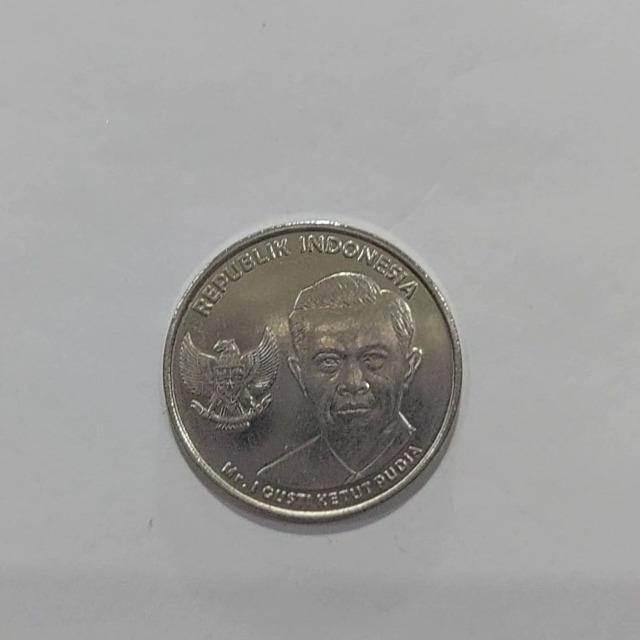Rp100: (161, 219, 464, 524), (249, 267, 427, 494)
